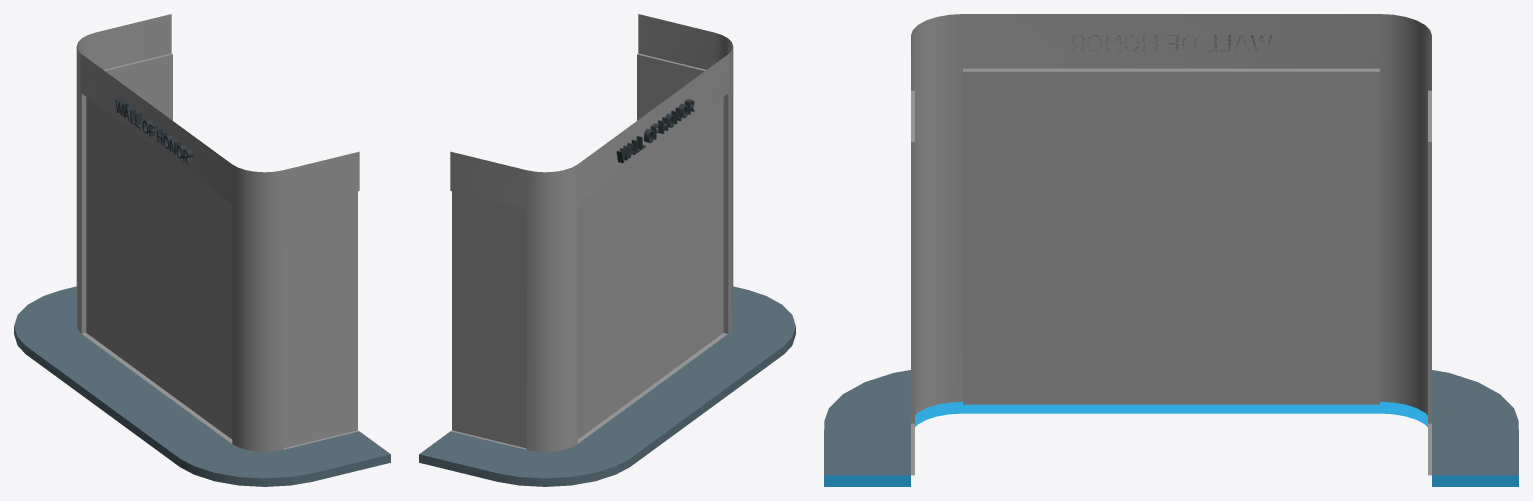
The model's file is Wall of Honor Podium.glb.
3 views of the same model, side by side, from view 1: azimuth 30°, elevation 25°; view 2: azimuth 150°, elevation 25°; view 3: azimuth 270°, elevation 25° (orthographic). The views are drawn at different scales.
Parts seen in each view (by area): view 1: Wall of Honor Podium; view 2: Wall of Honor Podium; view 3: Wall of Honor Podium.
Boxes of the visible parts, box(x1,y1,x2,y2) form: Wall of Honor Podium: box(14, 14, 390, 486); Wall of Honor Podium: box(419, 14, 795, 486); Wall of Honor Podium: box(824, 14, 1518, 486).
Size of what is drawn, in the model's own units: 4.5 by 7.61 by 12.
1 material, 1 textured.
